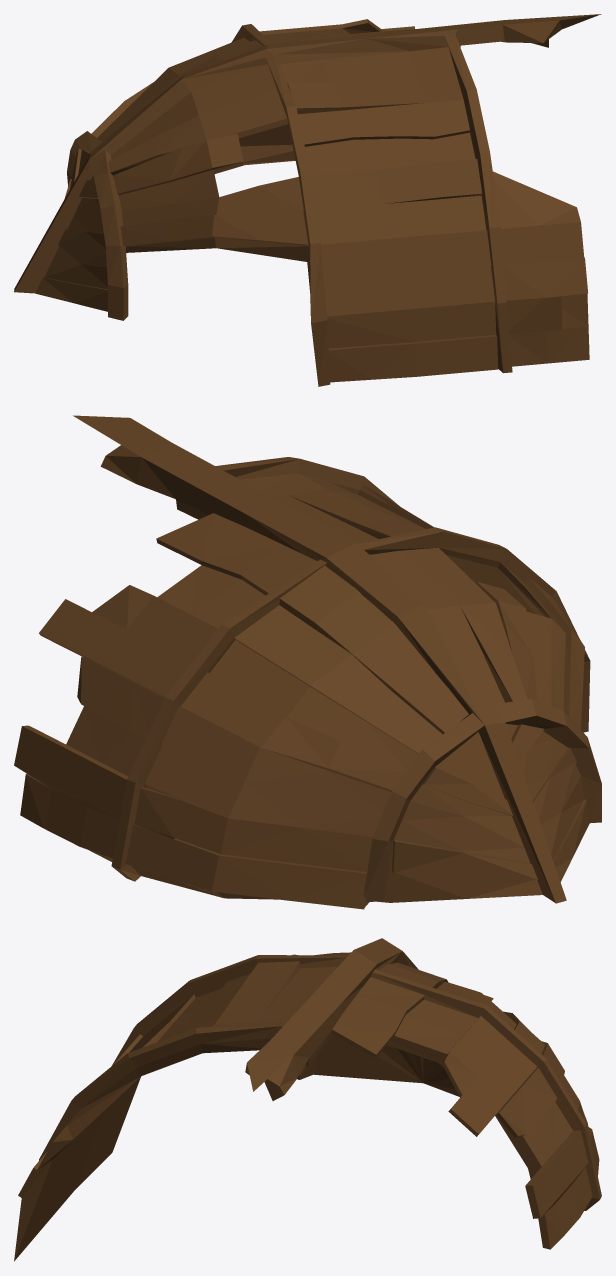
Rendered from boat.fbx.
3 renders of one model, top to bottom at view 1: azimuth 30°, elevation 25°; view 2: azimuth 150°, elevation 25°; view 3: azimuth 270°, elevation 25°, orthographic. The views are drawn at different scales.
Parts seen in each view (by area): view 1: polySurface1; view 2: polySurface1; view 3: polySurface1.
Part boxes in pixels (x1,y1,x2,y2): polySurface1: [14, 14, 601, 386]; polySurface1: [14, 415, 601, 909]; polySurface1: [14, 938, 601, 1261].
Size of the model in its own units: 1.65 by 0.7497 by 1.64.
